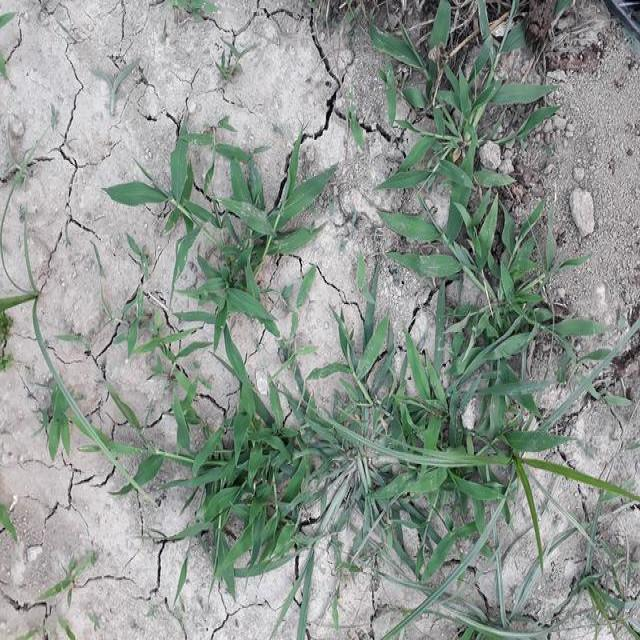weed: (132, 359, 548, 602), (371, 0, 580, 421), (102, 123, 347, 350)
